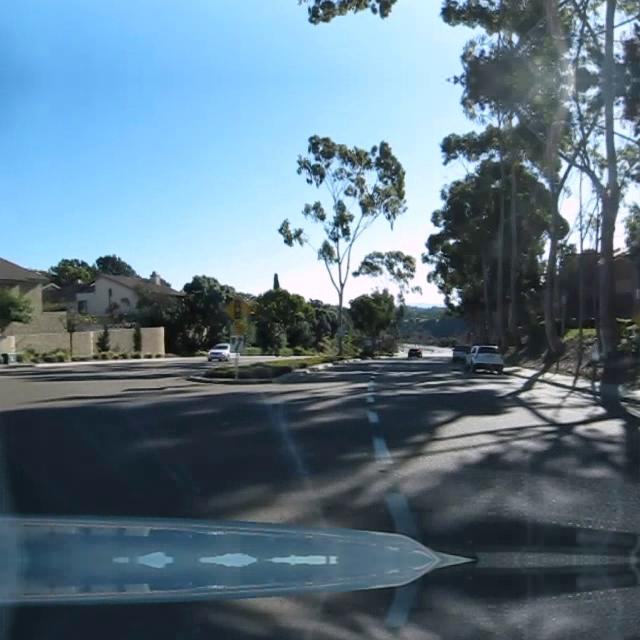signalAhead: (222, 294, 252, 324)
